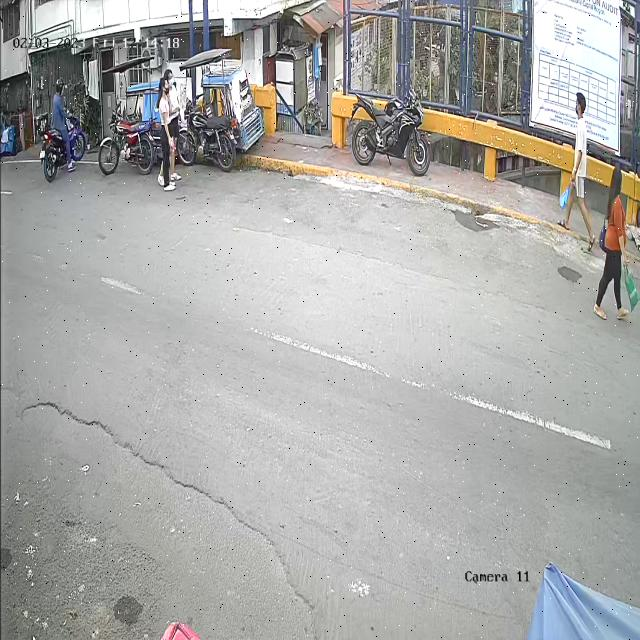garbage_dumping: (556, 177, 572, 213)
